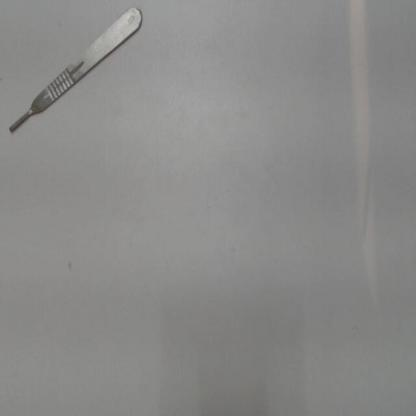No.3 BP Handle: (3, 4, 150, 145)
